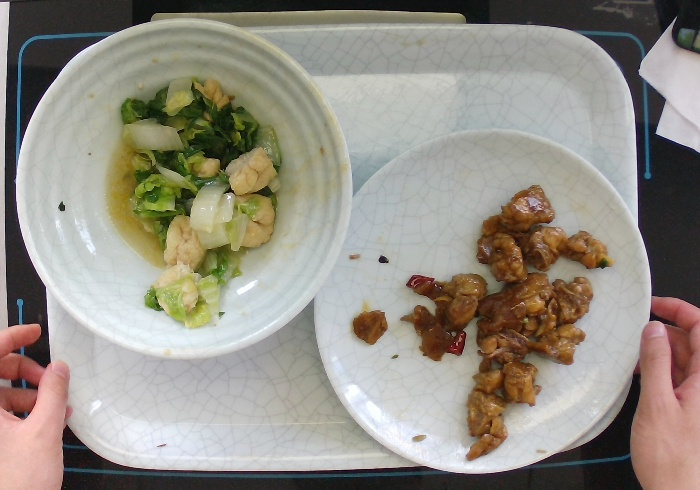JYsf-Da_Tang_Wan: (301, 121, 655, 479)
JYsf-Da_Yuan_Pan: (12, 15, 364, 371)
